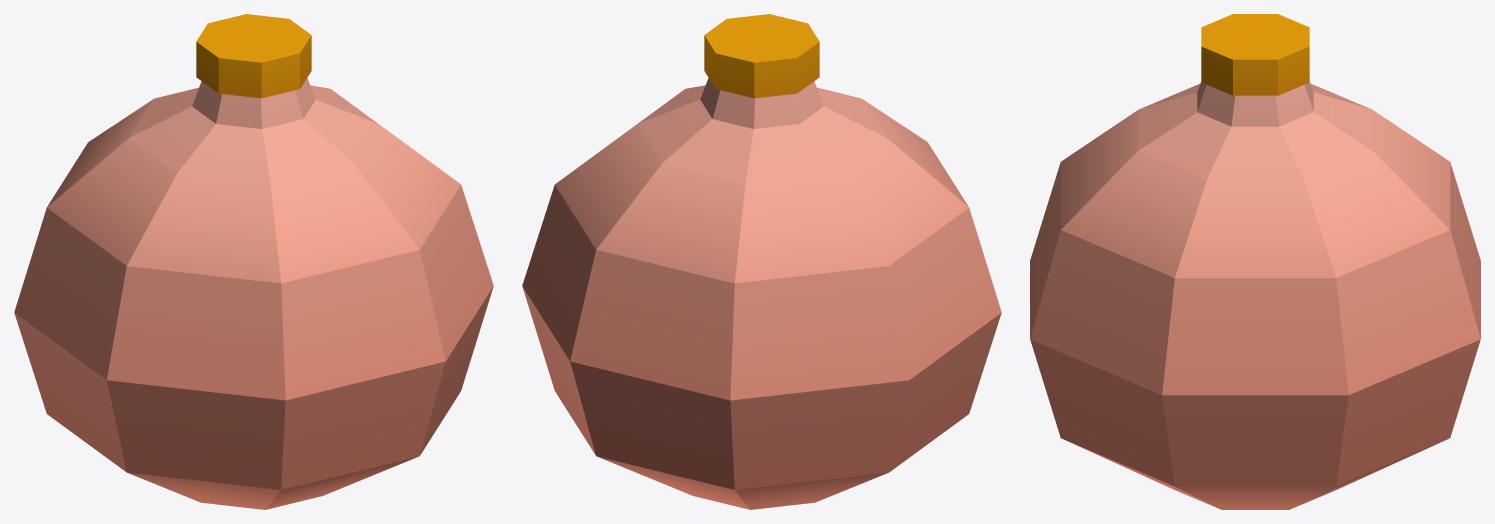
Rendered from ball pink.fbx.
3 views of the same model, side by side, from view 1: azimuth 30°, elevation 25°; view 2: azimuth 150°, elevation 25°; view 3: azimuth 270°, elevation 25° (orthographic).
Parts seen in each view (by area): view 1: ball pink; view 2: ball pink; view 3: ball pink.
Part boxes in pixels (box(x1,y1,x2,y2)): ball pink: box(14, 14, 493, 509); ball pink: box(522, 14, 1001, 509); ball pink: box(1030, 14, 1480, 509).
Size of the model in its own units: 26.53 by 29.44 by 26.53.
